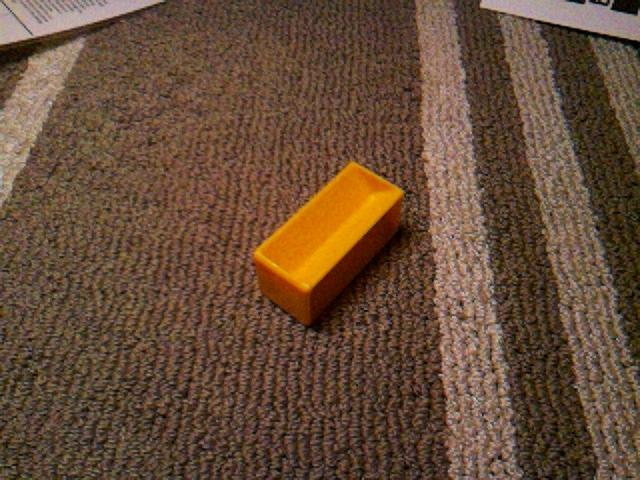yellow: (252, 161, 406, 328)
